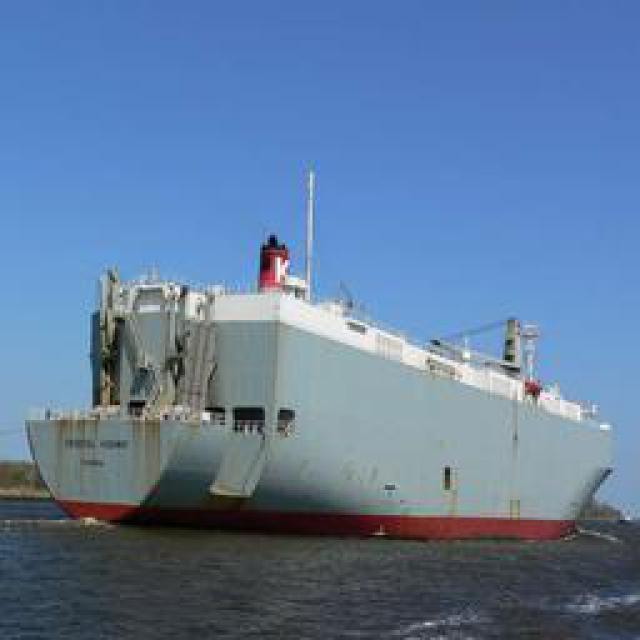Ship: (25, 199, 620, 544)
